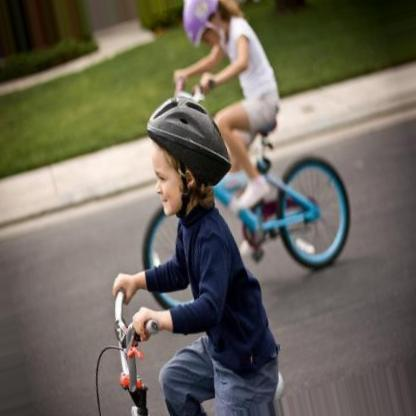with helmet: (146, 95, 233, 221), (183, 1, 228, 50)
